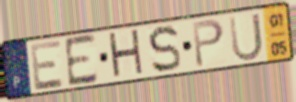E: (62, 32, 100, 90), (29, 38, 67, 93)
H: (106, 27, 147, 82)
P: (190, 17, 226, 70)
S: (146, 24, 183, 75)
U: (227, 10, 265, 63)
